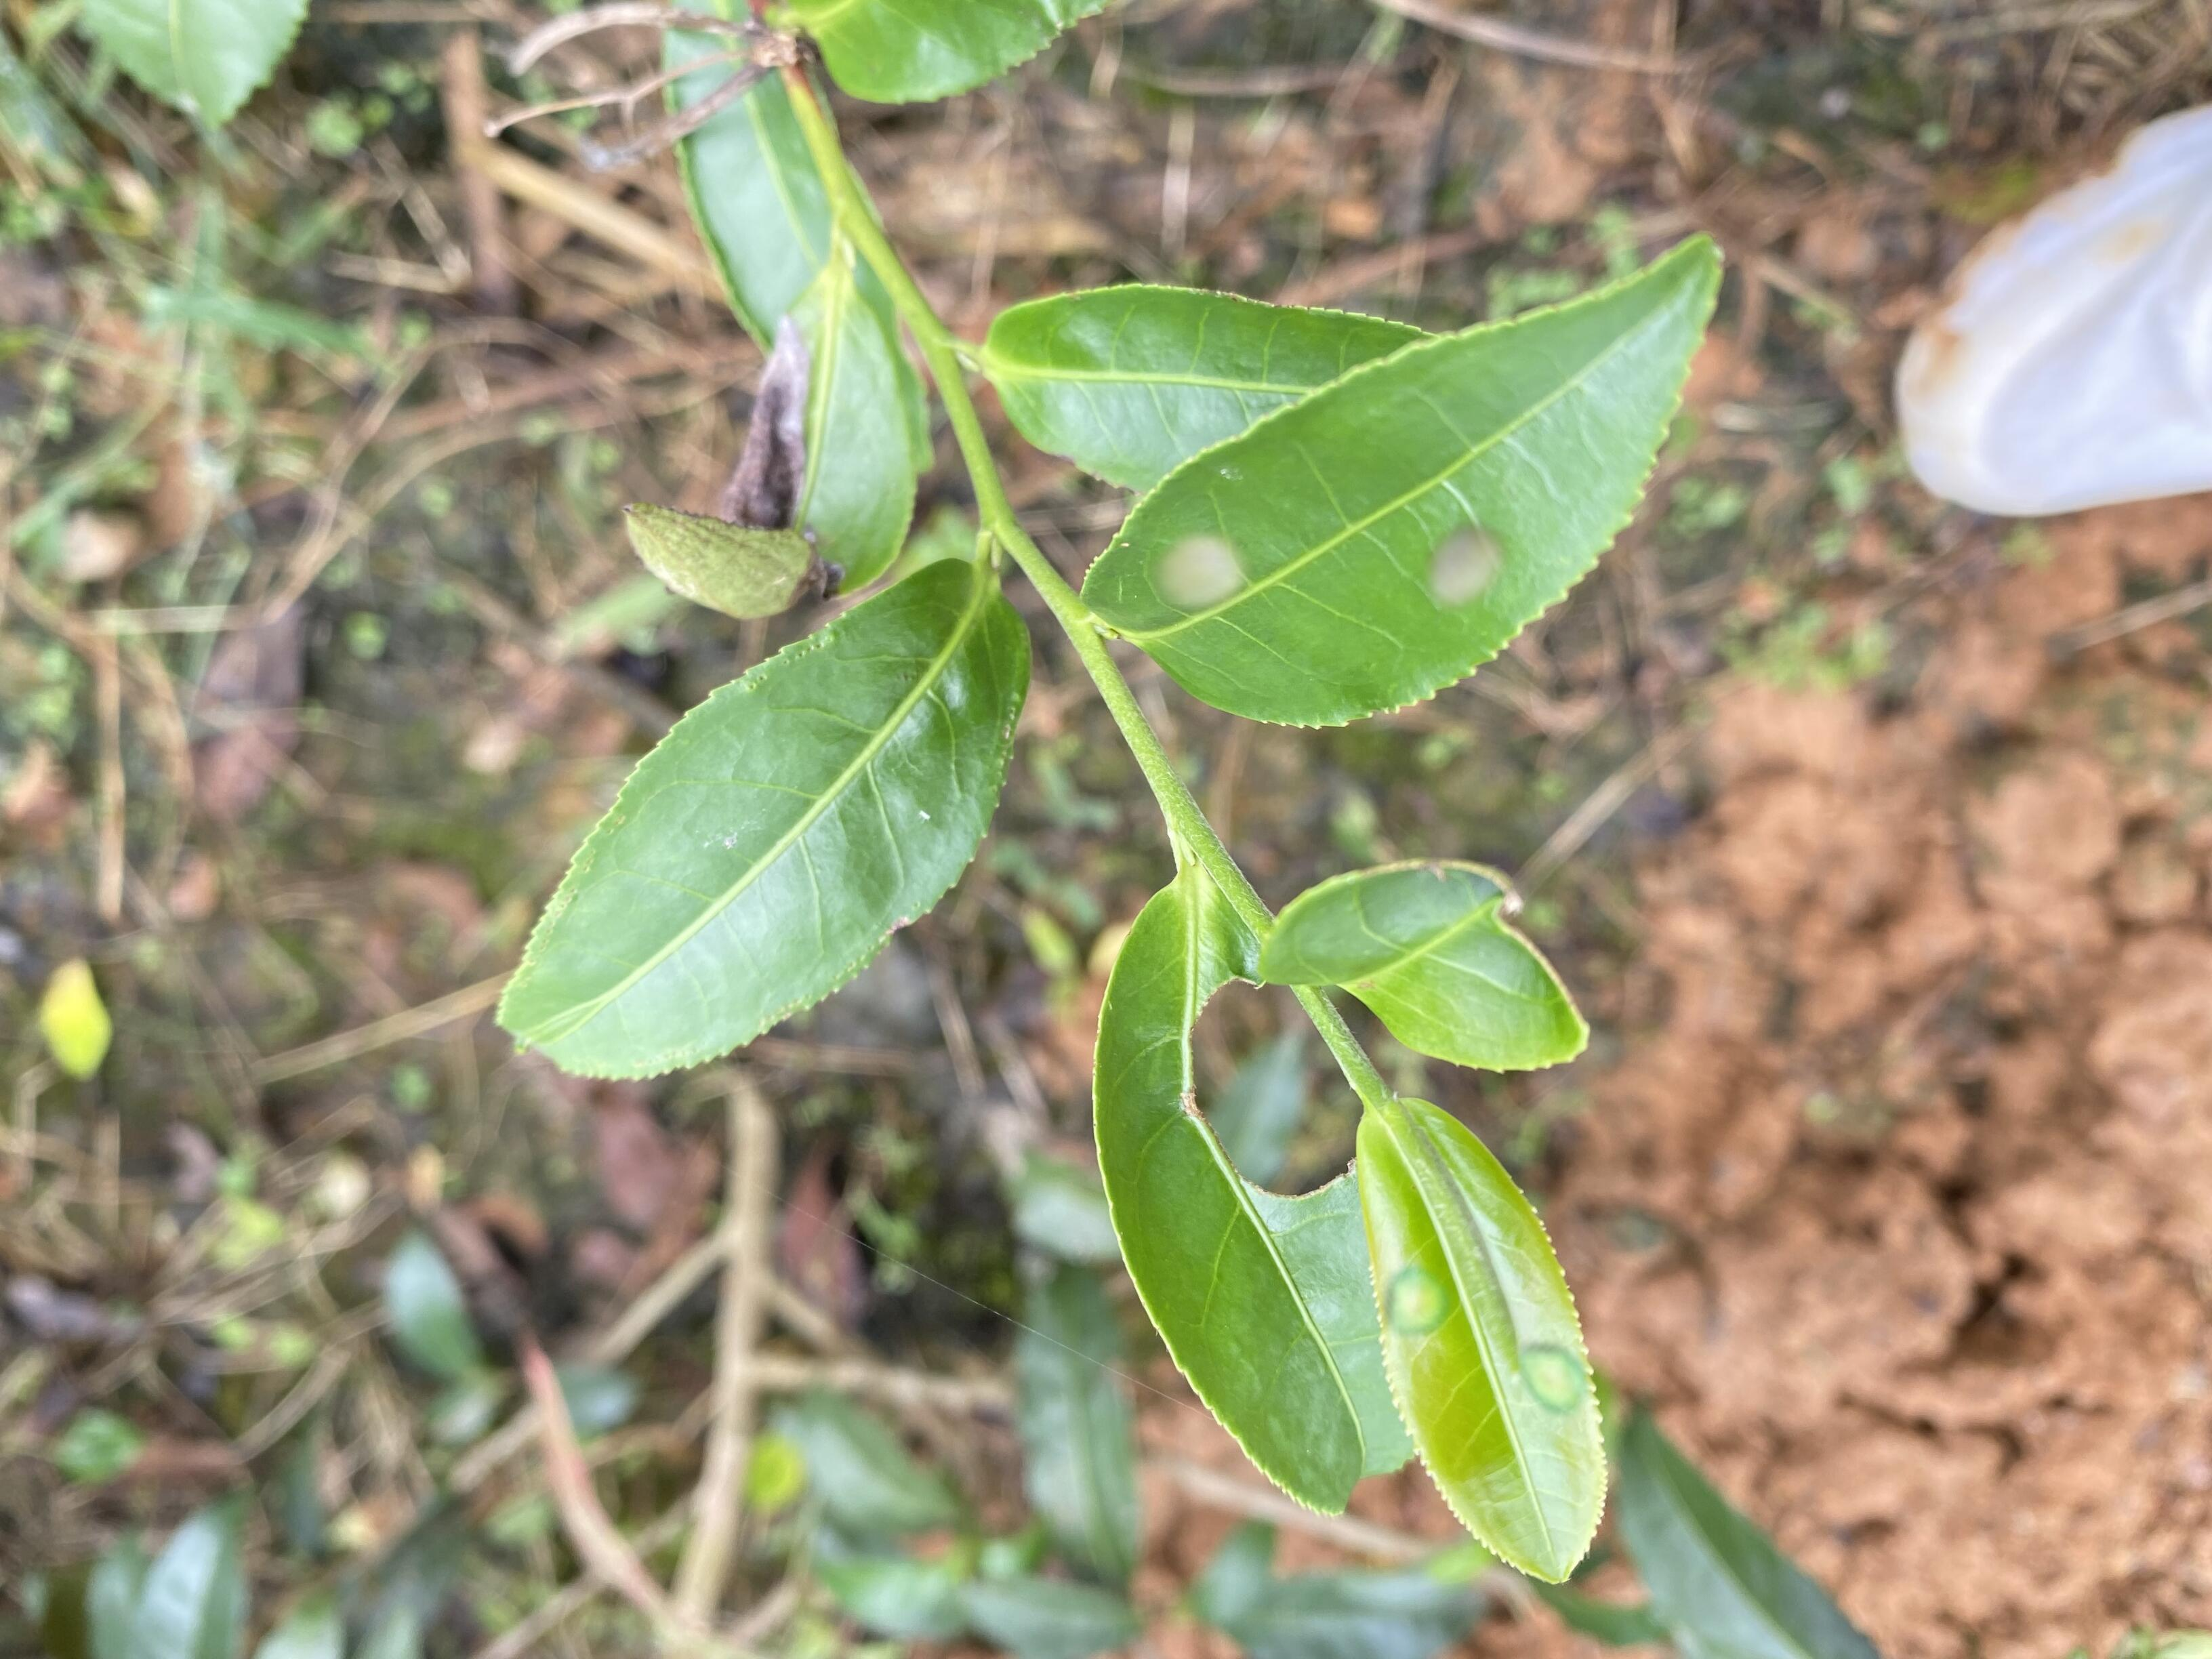chabing_high: (1087, 235, 1728, 730), (1357, 1094, 1604, 1582)
chihuo_low: (1092, 868, 1413, 1516), (1261, 859, 1590, 1077)
healthy: (982, 284, 1442, 495)
tanju_high: (723, 267, 925, 601)
